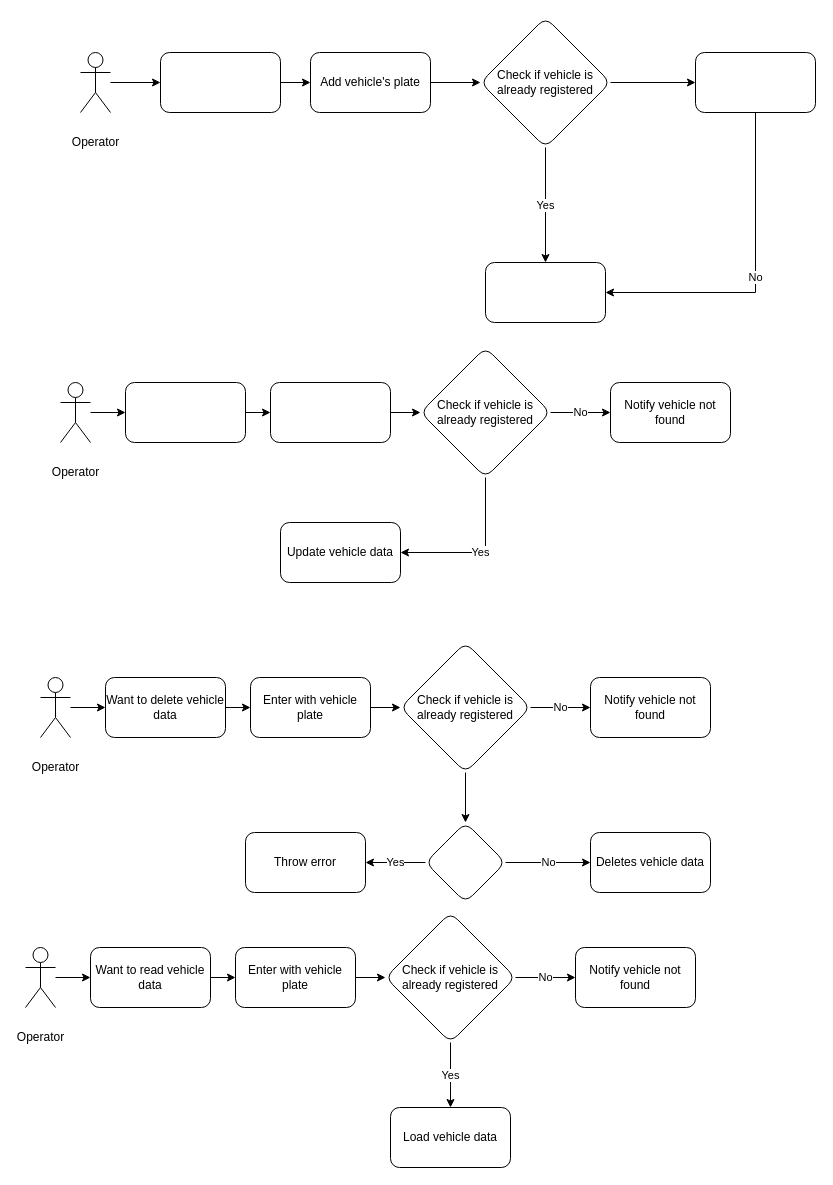
This 833x1185 diagram has some shape labels left out. Here are the shapes that lost their labels. From the top down, the centre of each, then its label:
At (220,82): "Want to register vehicle".
At (755,82): "Operator enters with plate, brand, model, year, owner".
At (545,292): "Loads vehicle info".
At (185,412): "Want to update vehicle data".
At (330,412): "Enter with vehicle plate and new data".
At (465,862): "Vehicle has an active SO".
